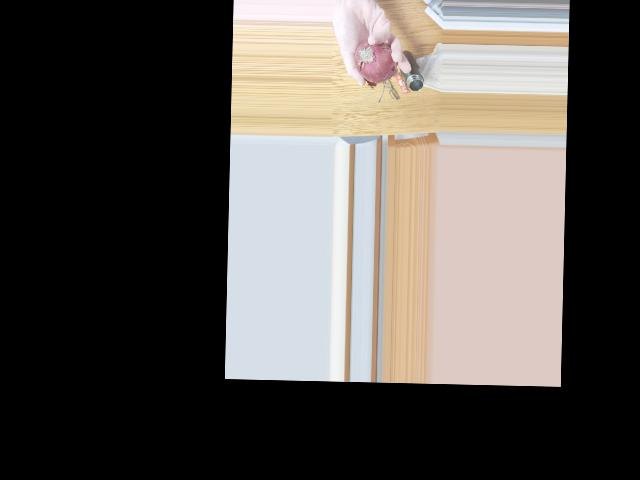onion: (351, 35, 392, 80)
